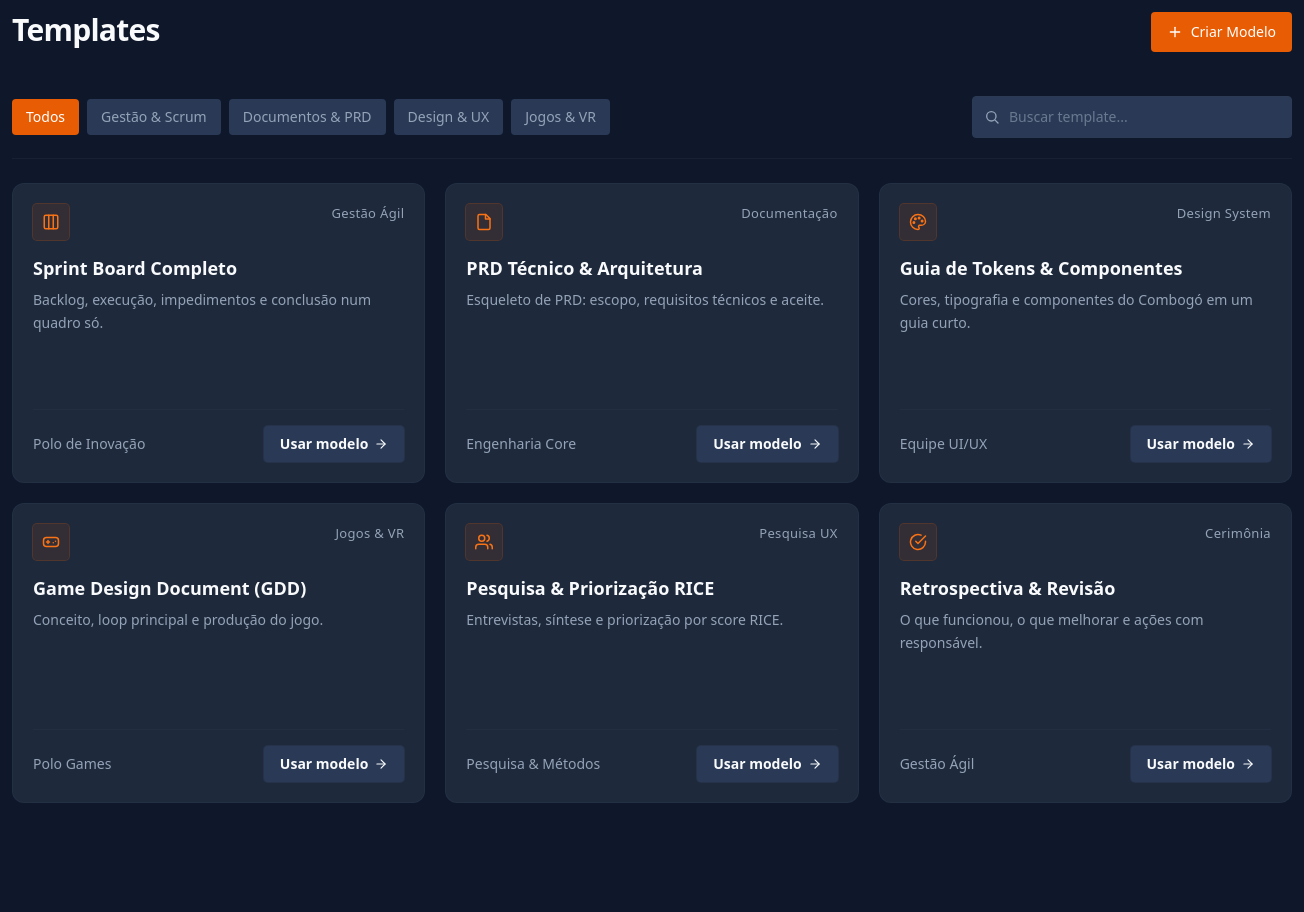
Test: Templates (janela) › filtra por categoria na aba Gestão & Scrum
Click the button "Gestão & Scrum" at (154,117), box [87,99,221,135]
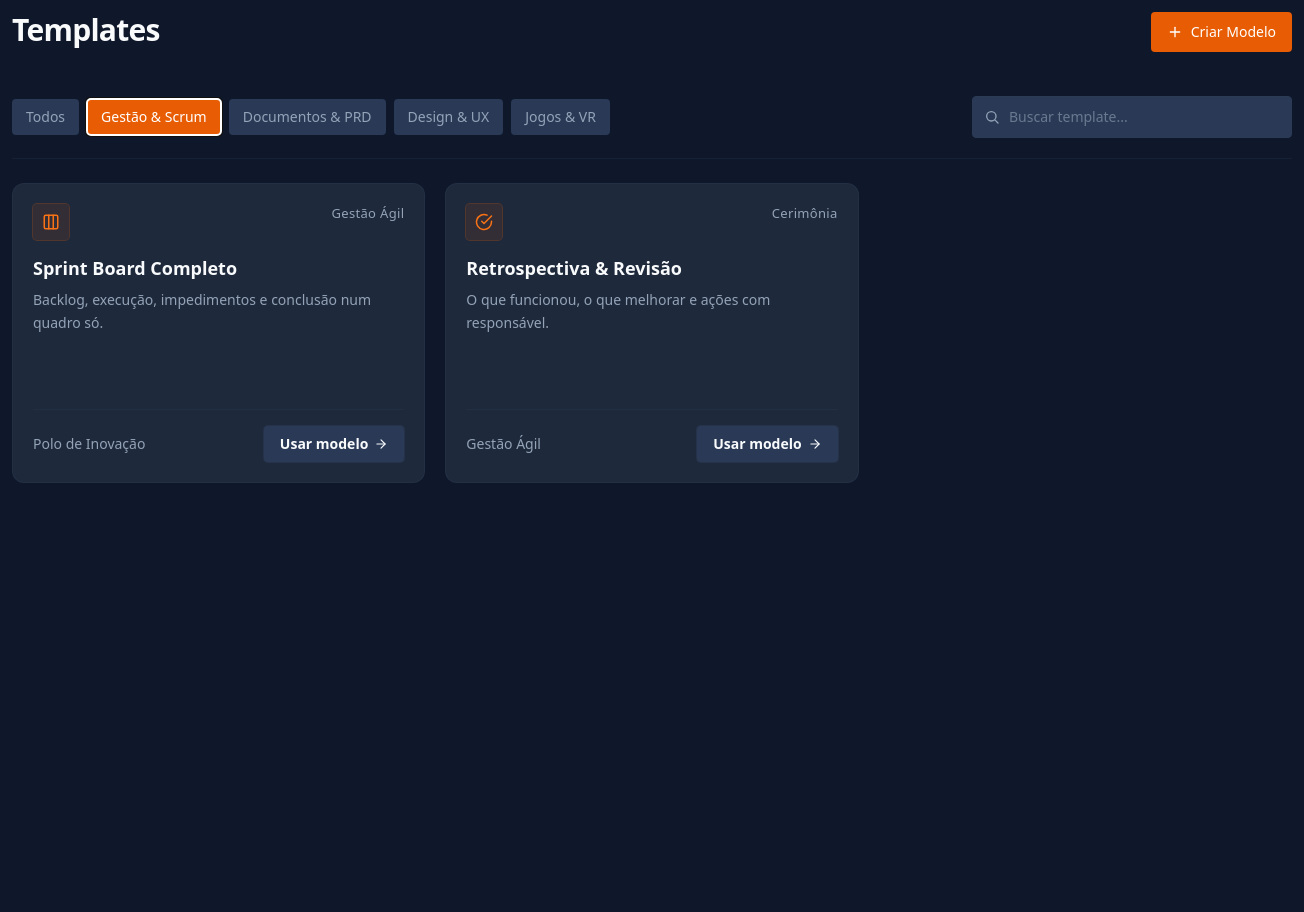
Expected: the heading "Sprint Board Completo" is shown, [33,256,237,280]
Expected: the heading "Game Design Document (GDD)" is gone
Expected: the number of buttons "Usar modelo" is 2, [264,426,404,462]; [697,426,838,462]
